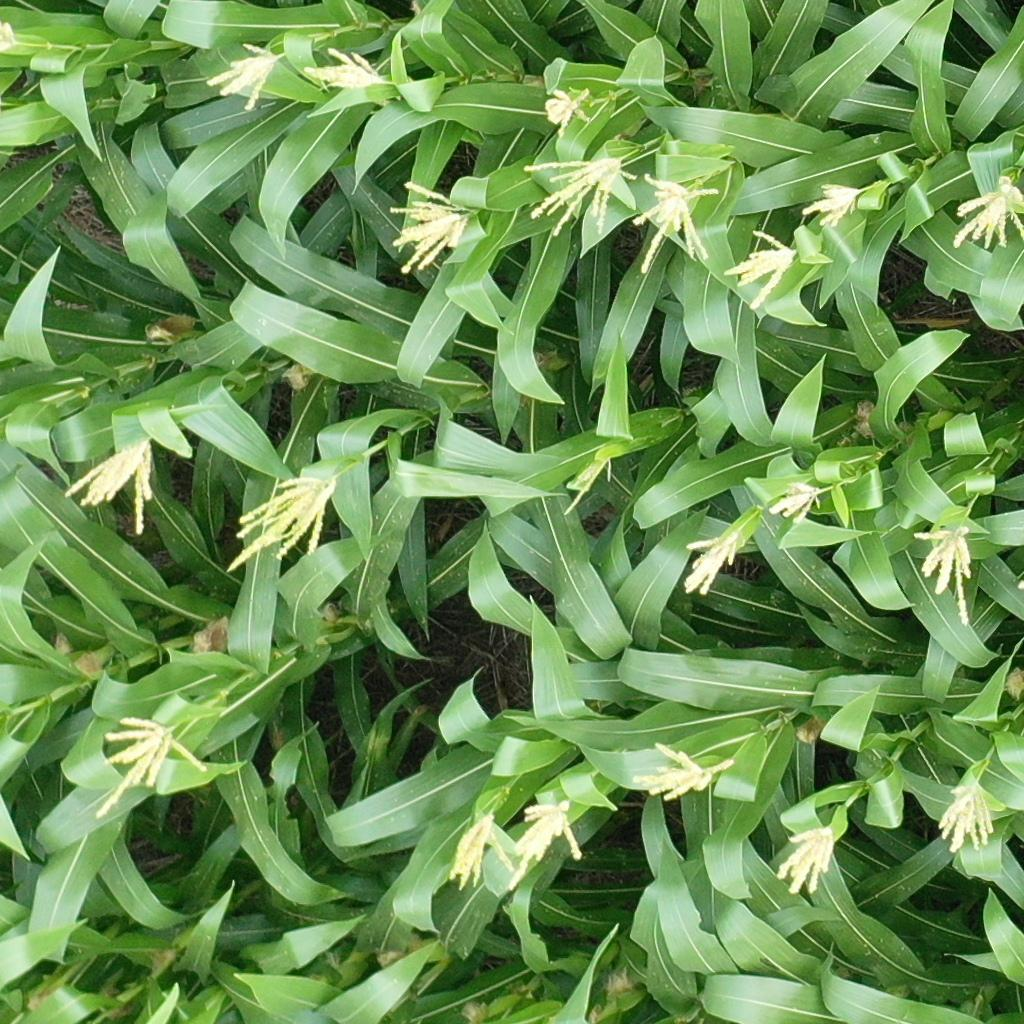Tassel: (86, 713, 211, 822), (225, 475, 335, 575), (62, 438, 165, 541), (521, 153, 641, 238), (632, 172, 722, 274), (386, 180, 475, 274), (505, 798, 588, 893), (909, 521, 981, 629), (715, 229, 796, 313), (632, 740, 736, 803), (200, 41, 292, 112), (447, 807, 517, 894), (950, 175, 1024, 253), (932, 774, 996, 855), (303, 44, 398, 91), (776, 827, 838, 898), (683, 527, 744, 597), (800, 178, 877, 227), (559, 454, 613, 514), (544, 87, 596, 137), (770, 483, 825, 526), (1, 22, 20, 54)
